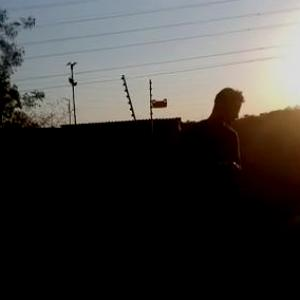follow: (170, 83, 249, 299)
